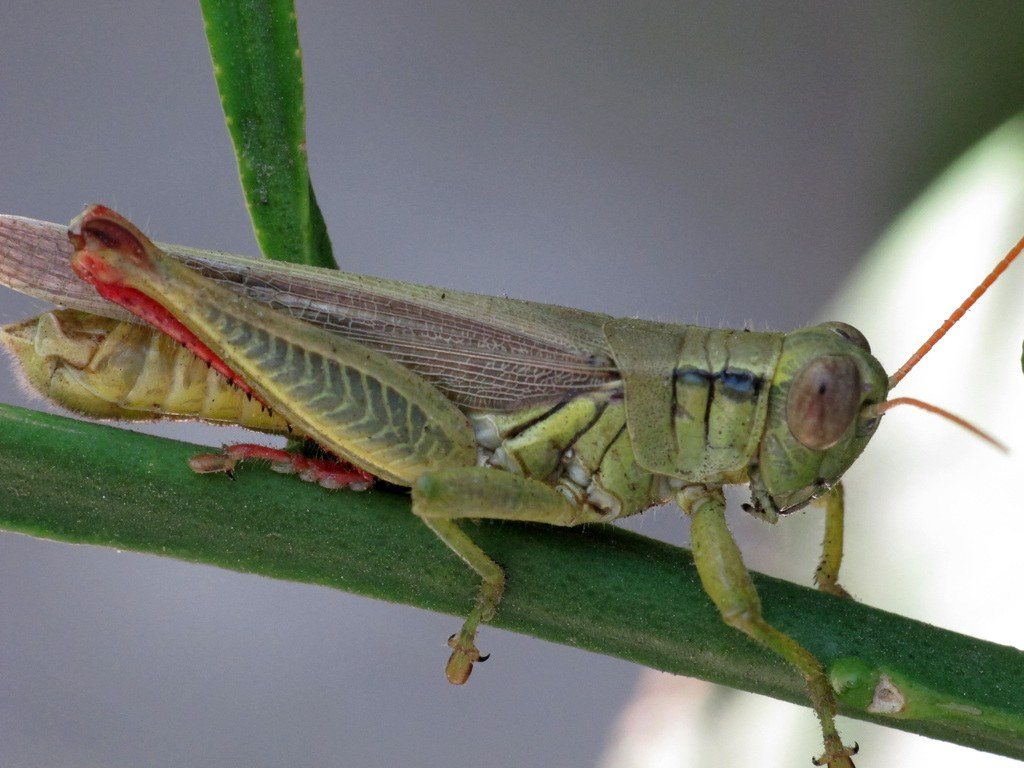insect: (0, 202, 1023, 767)
